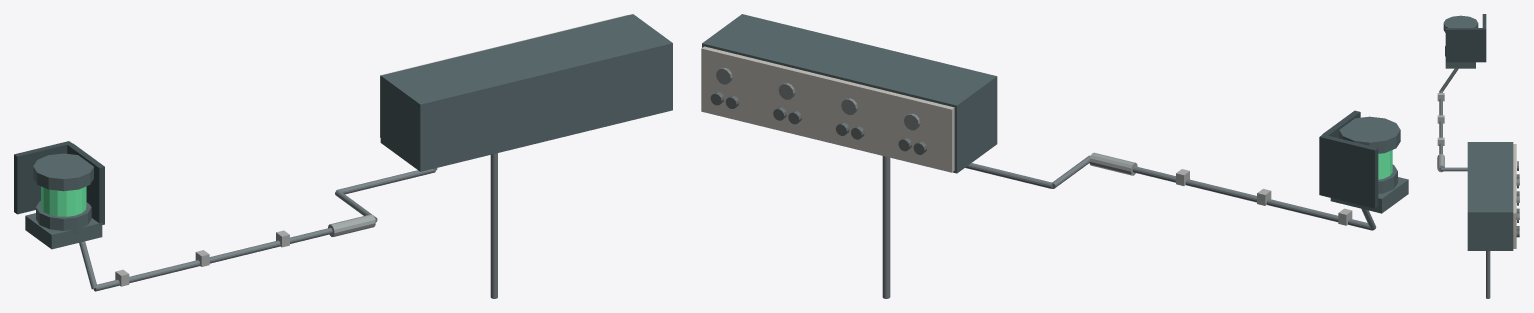
File: navigation-feeder-v2.glb
3 views of the same model, side by side, from view 1: azimuth 30°, elevation 25°; view 2: azimuth 150°, elevation 25°; view 3: azimuth 270°, elevation 25° (orthographic). The views are drawn at different scales.
Parts seen in each view (by area): view 1: Navigation feeder housing and two-core cable, Starboard sidelight; view 2: Navigation feeder housing and two-core cable; view 3: Navigation feeder housing and two-core cable.
Part boxes in pixels (<box>): Navigation feeder housing and two-core cable: <box>14,14,672,298</box>; Starboard sidelight: <box>41,186,86,216</box>; Navigation feeder housing and two-core cable: <box>701,14,1408,298</box>; Navigation feeder housing and two-core cable: <box>1437,14,1519,298</box>.
Bounding box in the file's own units: 2.8 × 1.09 × 0.542.
